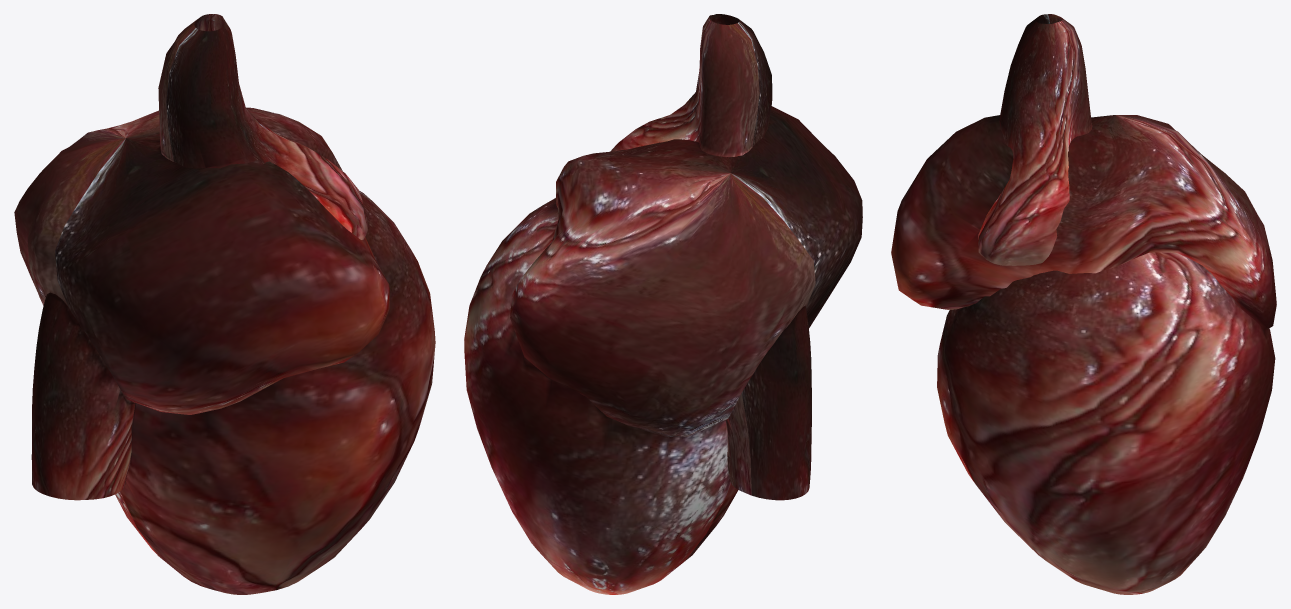
File: Heart.fbx
3 renders of one model, left to right at view 1: azimuth 30°, elevation 25°; view 2: azimuth 150°, elevation 25°; view 3: azimuth 270°, elevation 25°, orthographic. The views are drawn at different scales.
Parts seen in each view (by area): view 1: Heart; view 2: Heart; view 3: Heart.
Part boxes in pixels (x1,y1,x2,y2): Heart: [14, 14, 435, 594]; Heart: [464, 14, 862, 594]; Heart: [891, 14, 1276, 594].
Size of the model in its own units: 260 by 413 by 269.
Materials: 1 (1 with a texture image).
